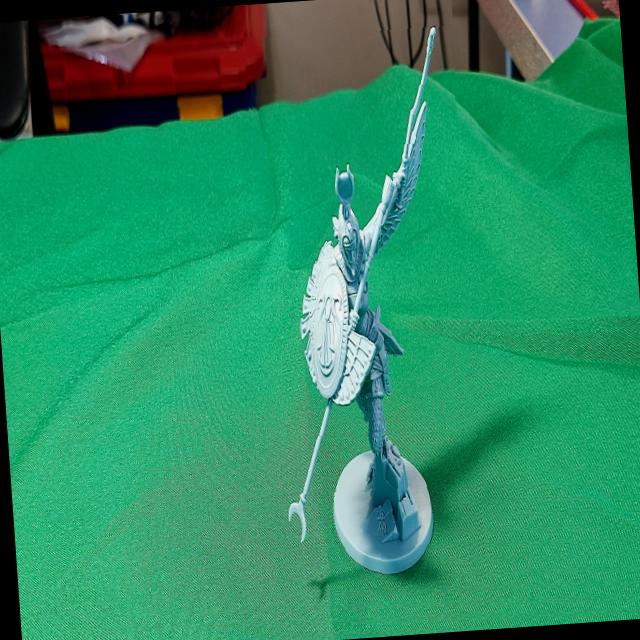isis: (238, 0, 492, 640)
